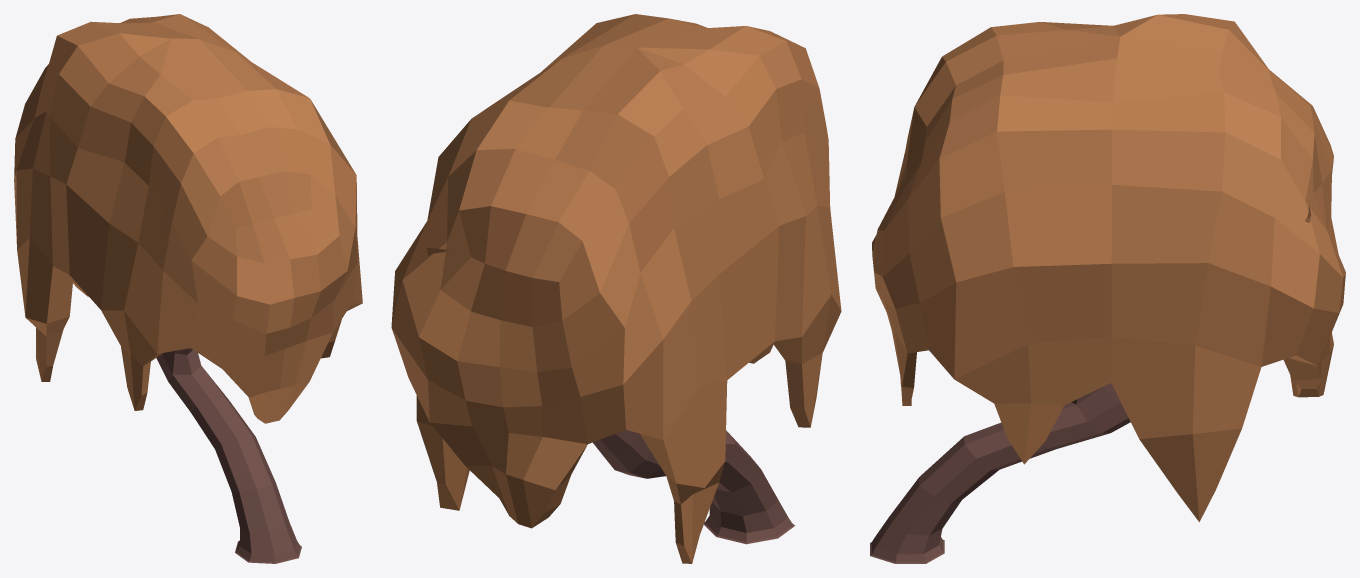
The model's file is willow_autumn_3.glb.
3 views of the same model, side by side, from view 1: azimuth 30°, elevation 25°; view 2: azimuth 150°, elevation 25°; view 3: azimuth 270°, elevation 25° (orthographic). The views are drawn at different scales.
Visible parts, largest first — view 1: Willow_Autumn_3; view 2: Willow_Autumn_3; view 3: Willow_Autumn_3.
Part boxes in pixels (x1=…): Willow_Autumn_3: x1=14, y1=14, x2=362, y2=563; Willow_Autumn_3: x1=391, y1=14, x2=841, y2=563; Willow_Autumn_3: x1=870, y1=14, x2=1345, y2=563.
Size of the model in its own units: 1.32 by 2.35 by 1.98.
